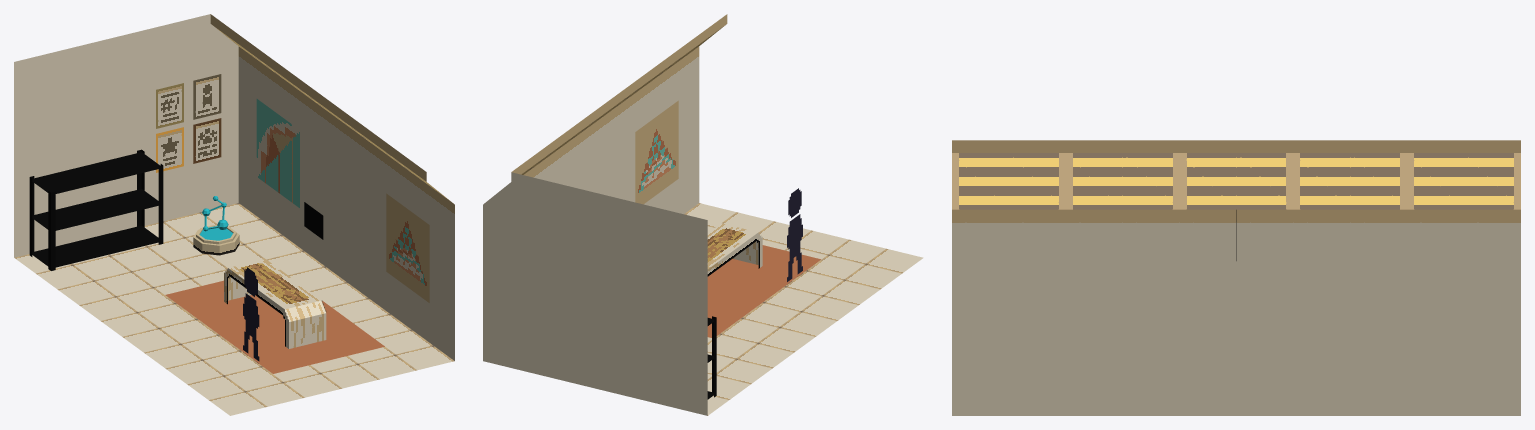
File: aster-sim-room.gltf
3 views of the same model, side by side, from view 1: azimuth 30°, elevation 25°; view 2: azimuth 150°, elevation 25°; view 3: azimuth 270°, elevation 25° (orthographic). The views are drawn at different scales.
Bounding box in the file's own units: 6 × 5 × 10.
7 materials, 7 textured.
